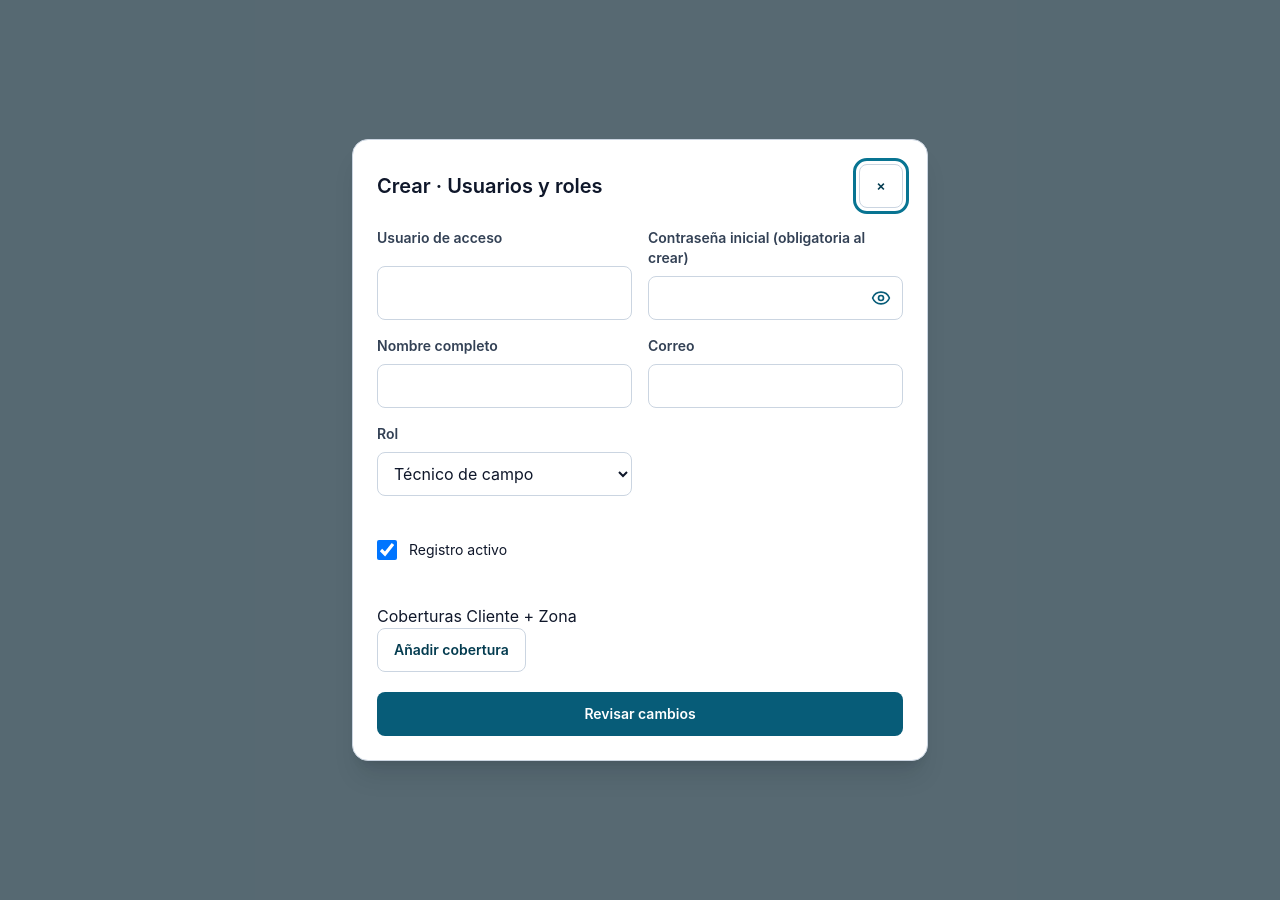
Test case: supervisor de tienda usa selector único y administrador no exige cobertura
The width and height of the screenshot is (1280, 900).
Select "Supervisor de tienda" in the dropdown labelled "Rol" at coordinates (504, 474), box [377,452,632,496]
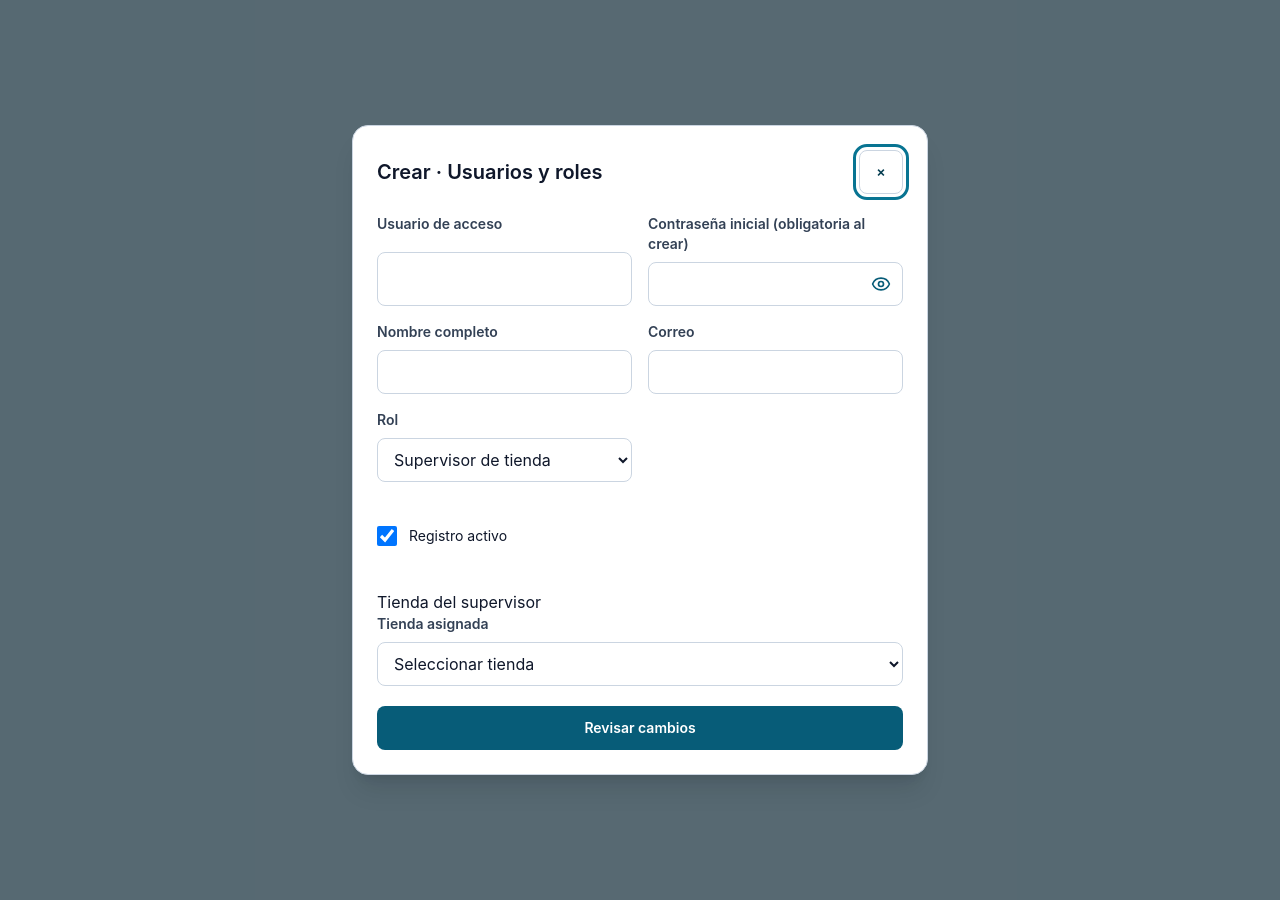
Check: the button "Añadir cobertura" is gone
Select "Administrador" in the dropdown labelled "Rol" at coordinates (504, 460), box [377,438,632,482]
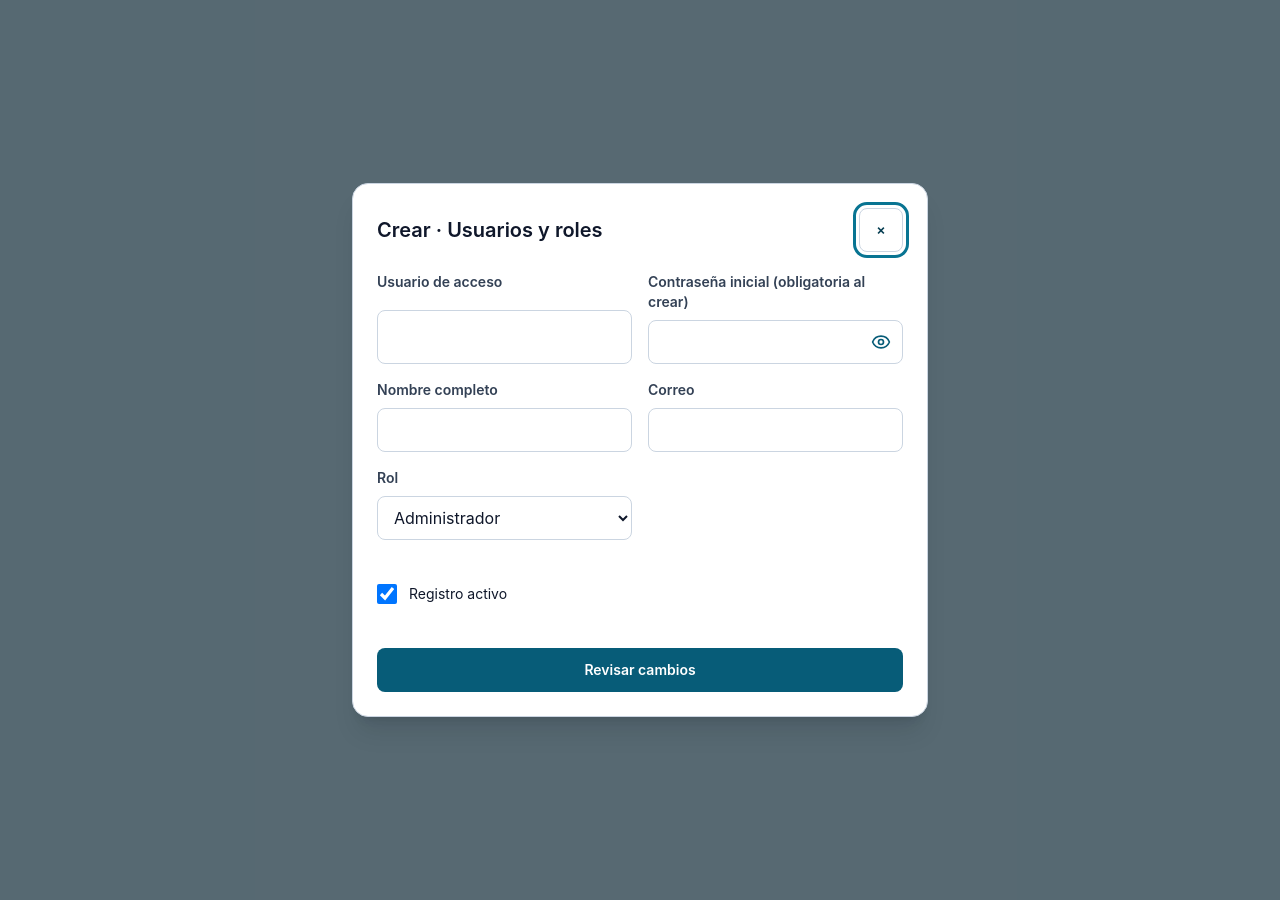
Check: the button "Añadir cobertura" is not shown
Check: the label labelled "Tienda asignada" is gone
